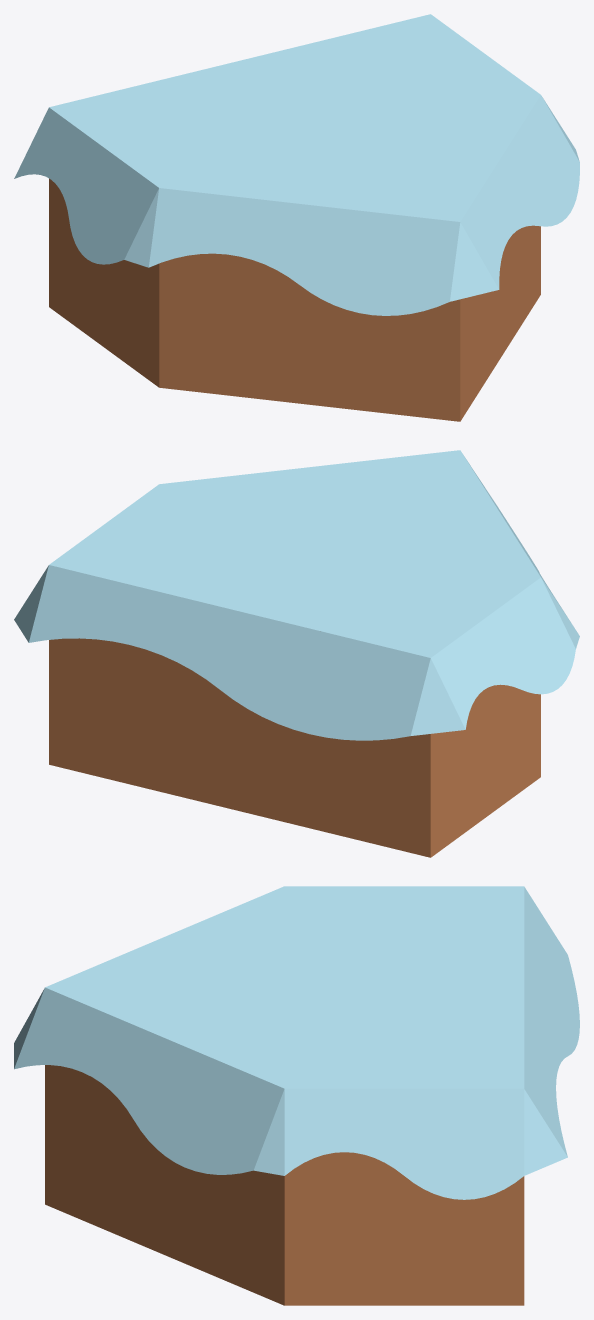
Rendered from blockSnowEnd.obj.
3 views of the same model, one above another, from view 1: azimuth 30°, elevation 25°; view 2: azimuth 150°, elevation 25°; view 3: azimuth 270°, elevation 25° (orthographic). The views are drawn at different scales.
Visible parts, largest first — view 1: blockSnowEnd; view 2: blockSnowEnd; view 3: blockSnowEnd.
Part boxes in pixels (x1=…): blockSnowEnd: x1=14, y1=14, x2=579, y2=421; blockSnowEnd: x1=14, y1=450, x2=579, y2=857; blockSnowEnd: x1=14, y1=886, x2=579, y2=1305.
Bounding box in the file's own units: 1.23 × 0.5 × 1.18.
